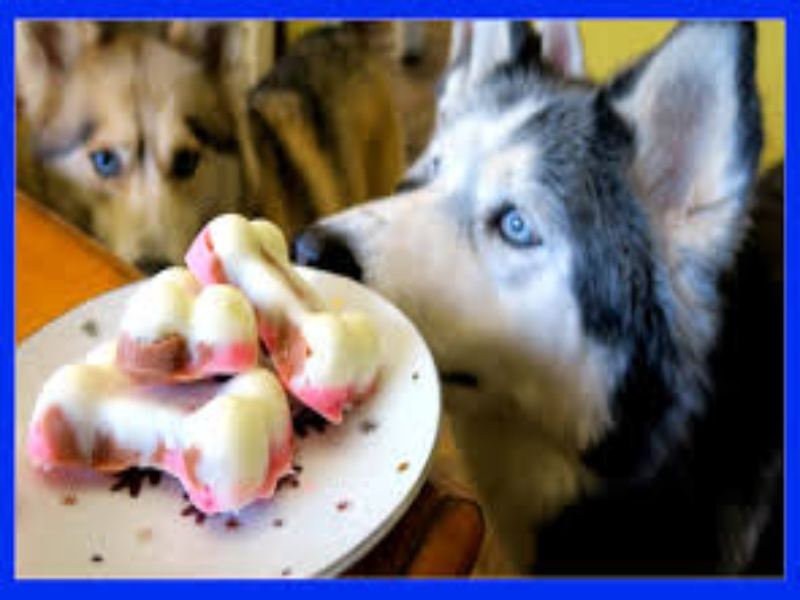dog: (311, 23, 766, 447)
